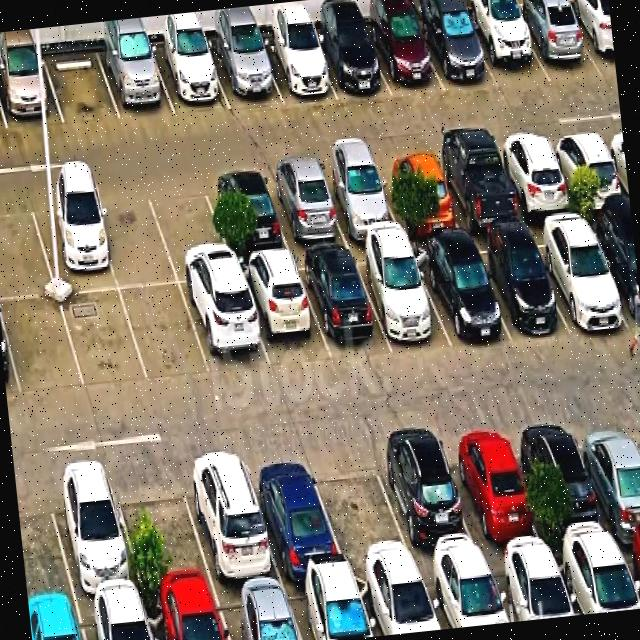empty: (109, 462, 215, 596), (306, 441, 416, 570), (145, 176, 235, 283), (90, 185, 177, 288), (120, 284, 210, 382), (60, 289, 148, 389), (0, 296, 84, 396), (14, 471, 75, 607), (42, 48, 120, 123), (0, 195, 56, 298)
occupied: (369, 431, 484, 568), (438, 423, 547, 559), (177, 448, 282, 588), (42, 465, 144, 601), (242, 448, 347, 580), (515, 416, 617, 551), (527, 220, 631, 331), (465, 233, 568, 340), (409, 240, 511, 348), (236, 256, 330, 369), (294, 250, 391, 359), (352, 245, 452, 349), (28, 190, 118, 294), (571, 412, 640, 542), (180, 279, 270, 374), (431, 145, 523, 232), (202, 170, 290, 259), (262, 164, 348, 250), (315, 159, 402, 242), (463, 8, 550, 90), (374, 152, 462, 233), (493, 136, 578, 219), (511, 5, 602, 82), (547, 130, 630, 211), (364, 15, 444, 97), (415, 12, 498, 91), (552, 543, 640, 615), (585, 216, 640, 329), (310, 24, 391, 99), (420, 561, 508, 629), (486, 555, 574, 622), (96, 44, 174, 119), (149, 42, 230, 114), (284, 576, 372, 640), (257, 33, 337, 103), (354, 571, 440, 636), (207, 38, 282, 108), (213, 585, 301, 640), (0, 53, 63, 129), (144, 591, 228, 640), (564, 0, 616, 76), (78, 597, 155, 640), (29, 604, 86, 640), (617, 540, 640, 600)
